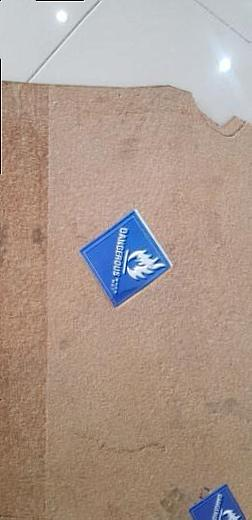dangerous-when-wet: (78, 204, 180, 309), (185, 480, 252, 520)
